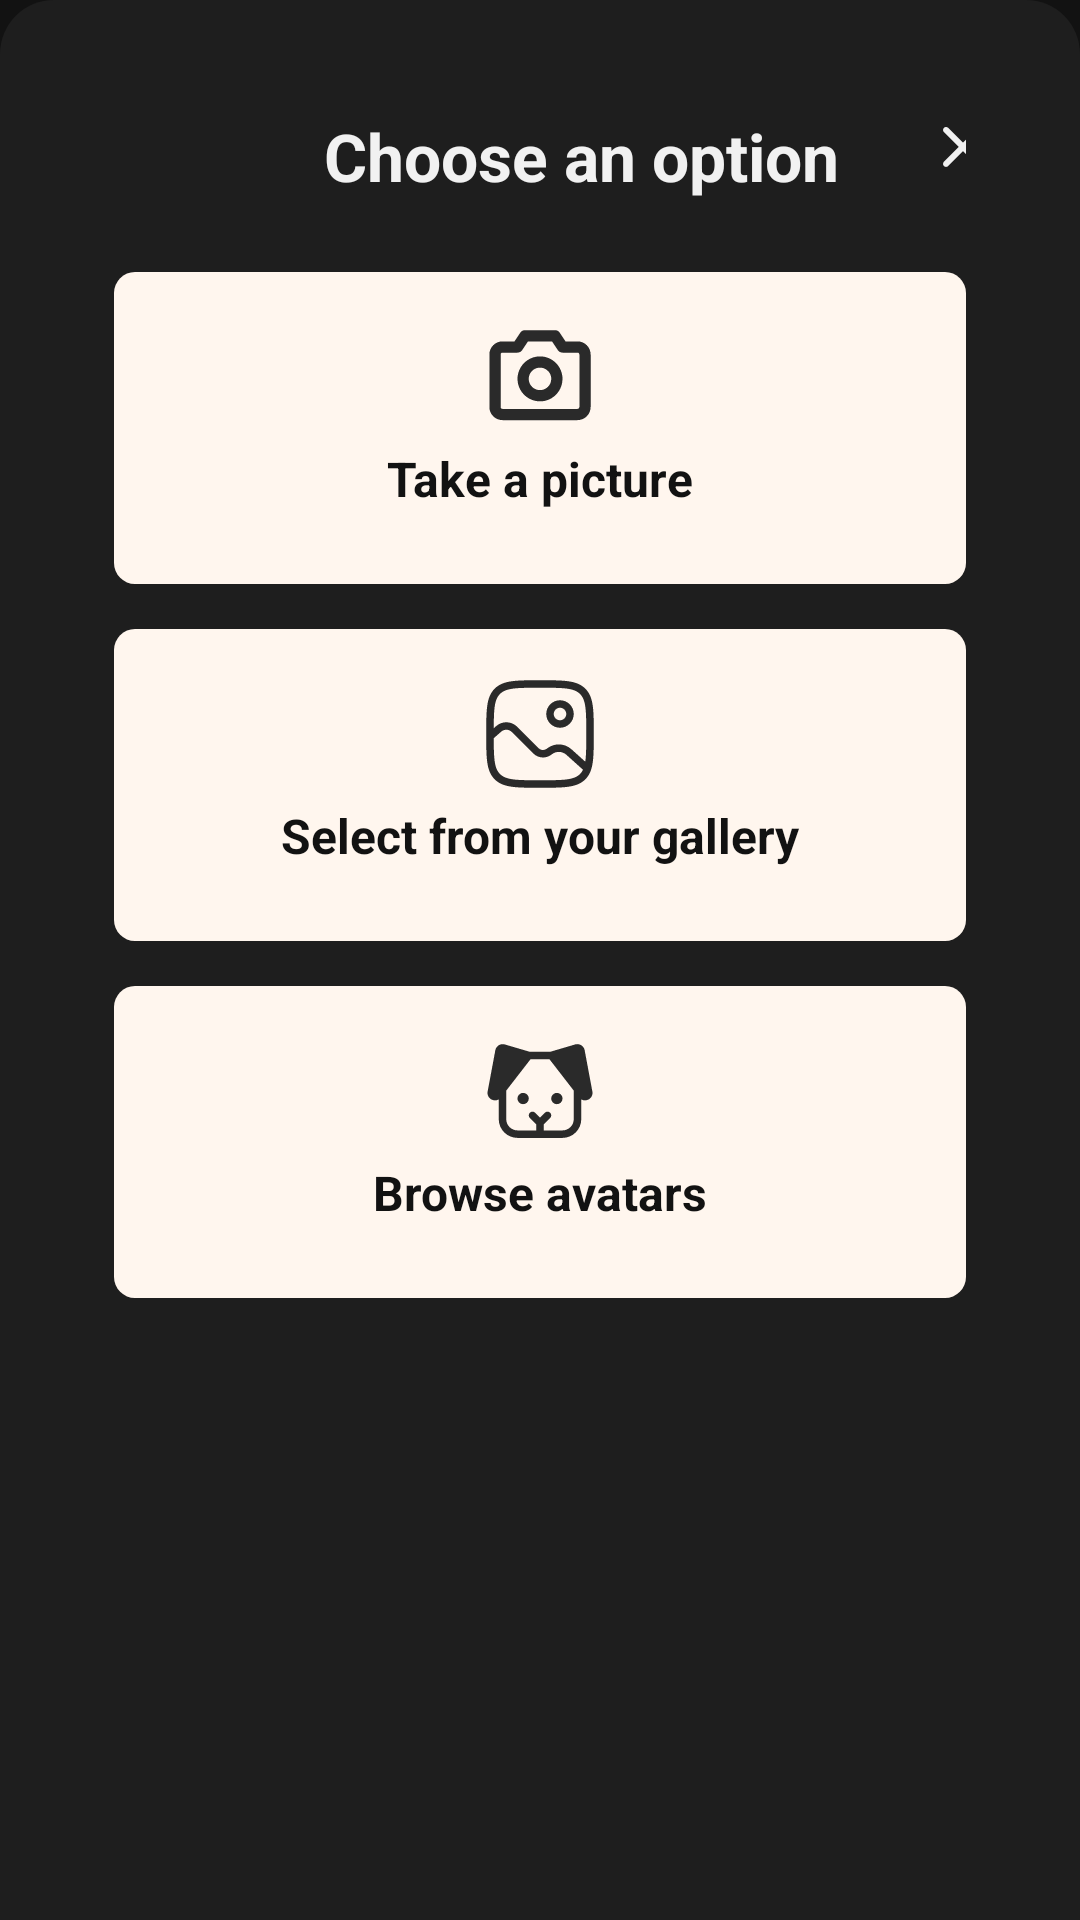

Icons on this 1080*1920 Android screen, each with its box as (x1, y1, x2, y2):
Button to close options window: (943, 127, 966, 167)
camera: (489, 330, 591, 421)
pets: (487, 1044, 593, 1138)
